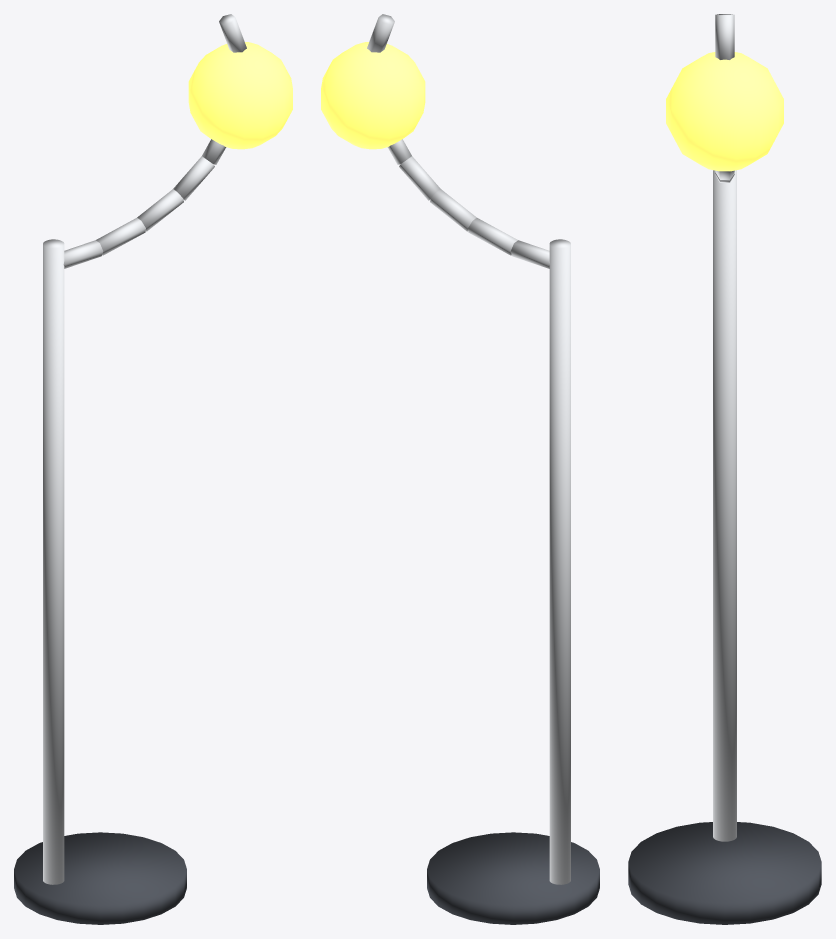
Rendered from floor_lamp_arc.glb.
The picture shows the model from 3 angles, left to right: view 1: azimuth 30°, elevation 25°; view 2: azimuth 150°, elevation 25°; view 3: azimuth 270°, elevation 25°; orthographic projection. The views are drawn at different scales.
Visible parts, largest first — view 1: GD_floor_lamp_arc__m1, GD_floor_lamp_arc__m0, GD_floor_lamp_arc__m2; view 2: GD_floor_lamp_arc__m1, GD_floor_lamp_arc__m0, GD_floor_lamp_arc__m2; view 3: GD_floor_lamp_arc__m1, GD_floor_lamp_arc__m0, GD_floor_lamp_arc__m2.
Boxes of the visible parts, x1=… form: GD_floor_lamp_arc__m1: x1=43, y1=14, x2=246, y2=884; GD_floor_lamp_arc__m0: x1=14, y1=832, x2=186, y2=924; GD_floor_lamp_arc__m2: x1=188, y1=42, x2=292, y2=149; GD_floor_lamp_arc__m1: x1=367, y1=14, x2=570, y2=884; GD_floor_lamp_arc__m0: x1=427, y1=832, x2=599, y2=924; GD_floor_lamp_arc__m2: x1=321, y1=42, x2=425, y2=149; GD_floor_lamp_arc__m1: x1=713, y1=14, x2=736, y2=841; GD_floor_lamp_arc__m0: x1=628, y1=822, x2=821, y2=924; GD_floor_lamp_arc__m2: x1=666, y1=52, x2=783, y2=171.
Size of the model in its own units: 0.555 by 1.72 by 0.32.
